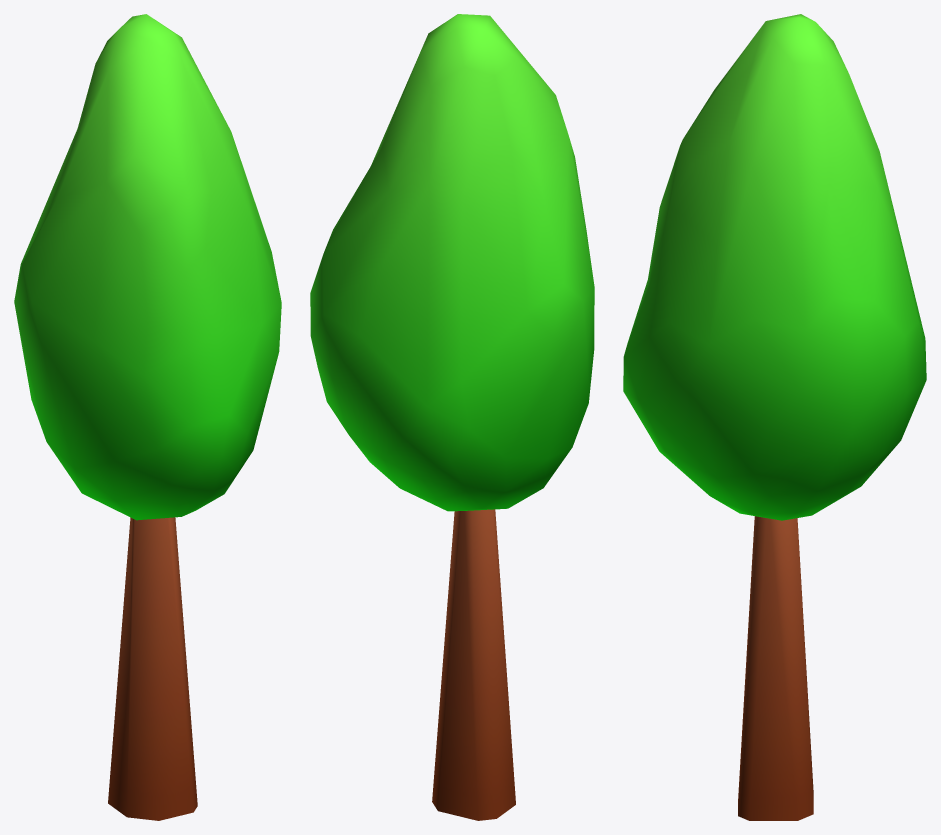
The model's file is thintree3.fbx.
The picture shows the model from 3 angles, left to right: view 1: azimuth 30°, elevation 25°; view 2: azimuth 150°, elevation 25°; view 3: azimuth 270°, elevation 25°; orthographic projection.
Parts seen in each view (by area): view 1: thintree; view 2: thintree; view 3: thintree.
Part boxes in pixels (x1=…): thintree: x1=14, y1=14, x2=281, y2=820; thintree: x1=310, y1=14, x2=594, y2=820; thintree: x1=623, y1=14, x2=926, y2=820.
Bounding box in the file's own units: 275 × 851 × 296.
